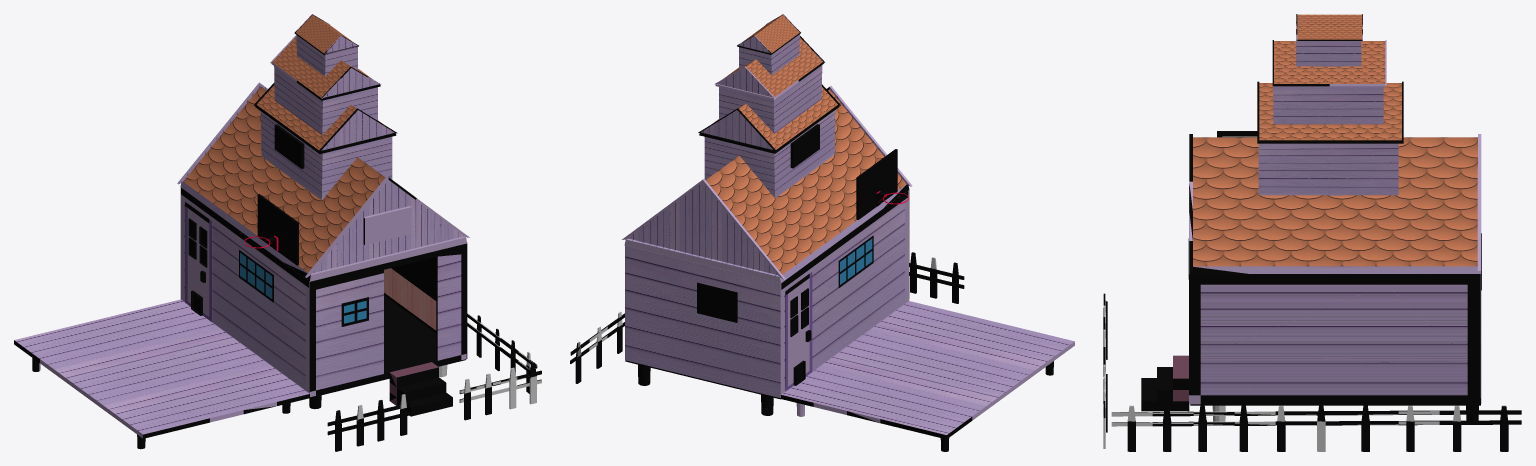
File: Fachada2.obj
3 renders of one model, left to right at view 1: azimuth 30°, elevation 25°; view 2: azimuth 150°, elevation 25°; view 3: azimuth 270°, elevation 25°, orthographic. The views are drawn at different scales.
Visible parts, largest first — view 1: fachada:fachada:polySurface151; view 2: fachada:fachada:polySurface151; view 3: fachada:fachada:polySurface151.
Part boxes in pixels (box(x1,y1,x2,y2)): fachada:fachada:polySurface151: box(14, 14, 541, 451); fachada:fachada:polySurface151: box(570, 14, 1074, 451); fachada:fachada:polySurface151: box(1103, 14, 1521, 451).
Size of the model in its own units: 14.27 by 12.49 by 12.64.
